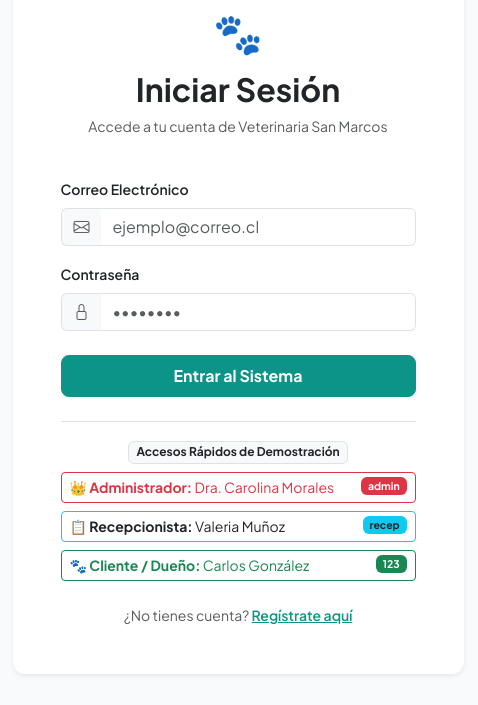
Test: Formularios, Validaciones y Eventos › 5. Login muestra mensaje de error si los campos están vacíos al intentar enviar
Click the button with test id "btn-login-submit": (238, 376) [60,355,416,397]
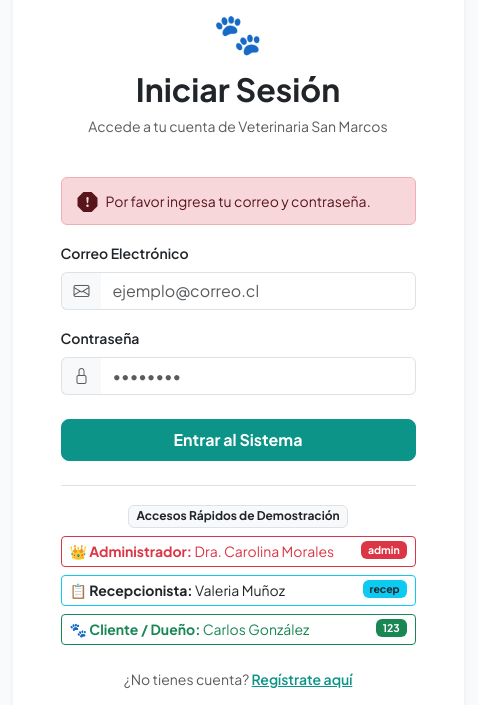
Check: the text "Por favor ingresa tu correo y contraseña." is shown, box [106,191,371,212]
